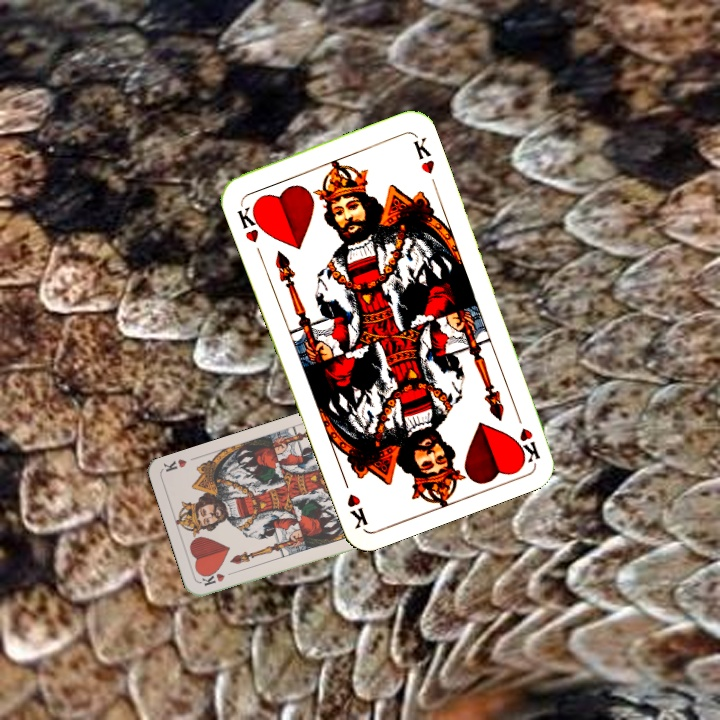HK: (511, 405, 543, 465), (233, 199, 267, 245), (198, 567, 238, 589)
